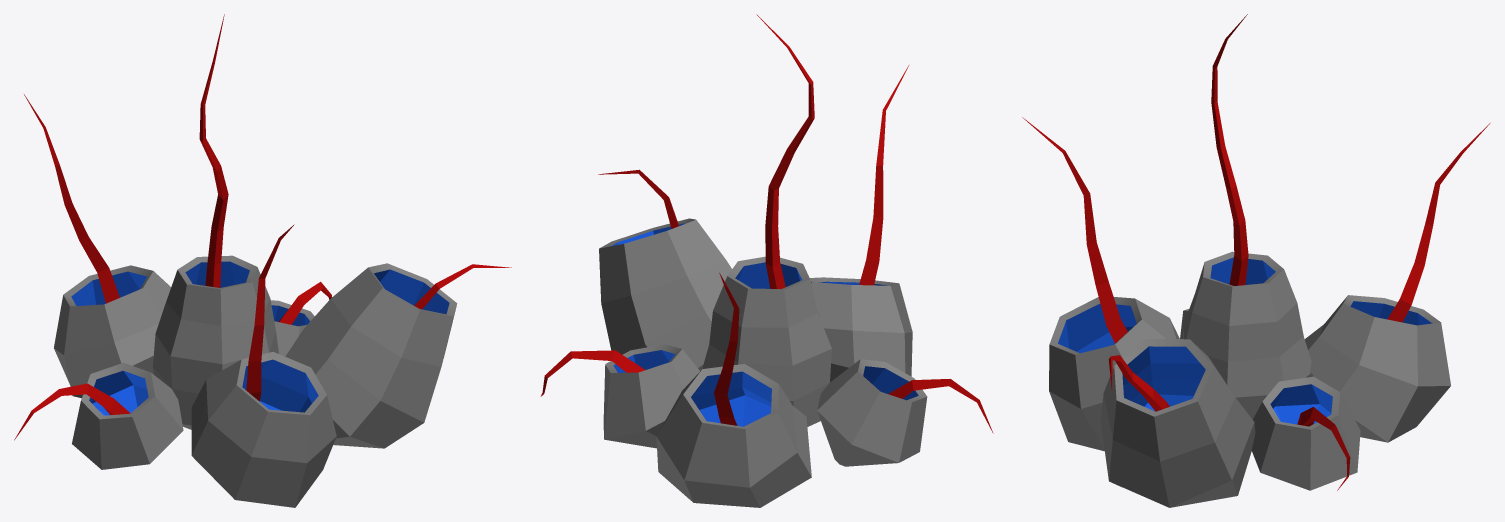
The model's file is FungiFlagel04.fbx.
3 views of the same model, side by side, from view 1: azimuth 30°, elevation 25°; view 2: azimuth 150°, elevation 25°; view 3: azimuth 270°, elevation 25° (orthographic). The views are drawn at different scales.
Visible parts, largest first — view 1: FungiFlagel04_LOD0; view 2: FungiFlagel04_LOD0; view 3: FungiFlagel04_LOD0.
Boxes of the visible parts, x1,y1,x2,y2 form: FungiFlagel04_LOD0: (14, 14, 511, 507); FungiFlagel04_LOD0: (540, 14, 993, 507); FungiFlagel04_LOD0: (1022, 14, 1490, 507).
Size of what is drawn, in the model's own units: 115 by 106 by 103.
